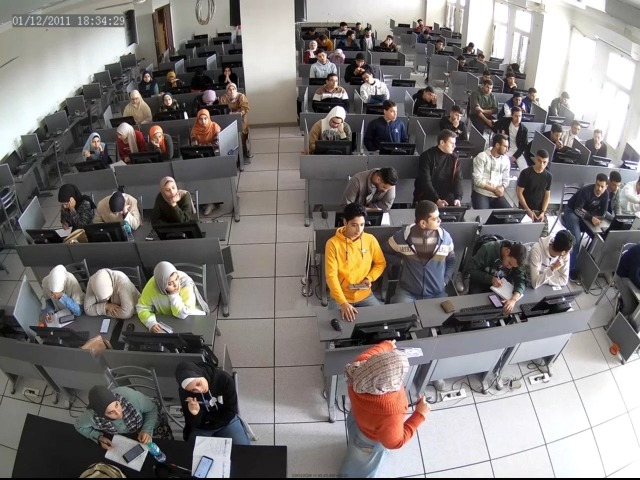phone: (121, 432, 162, 480), (182, 453, 228, 480)
zuobi: (138, 265, 217, 342), (410, 202, 470, 281), (76, 122, 146, 163), (538, 230, 590, 266), (374, 99, 404, 137), (585, 169, 612, 208), (489, 130, 514, 170), (361, 66, 376, 99), (342, 26, 363, 48), (335, 21, 356, 36)
